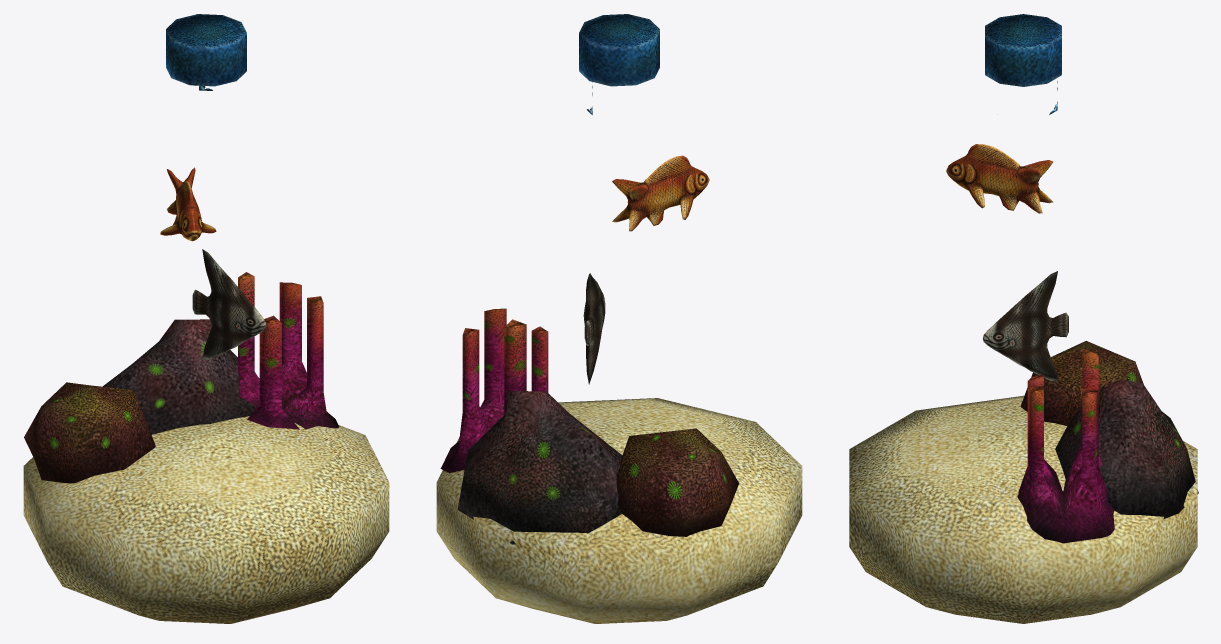
Rendered from BACK_FISHTANK.fbx.
3 views of the same model, side by side, from view 1: azimuth 30°, elevation 25°; view 2: azimuth 150°, elevation 25°; view 3: azimuth 270°, elevation 25° (orthographic).
Parts seen in each view (by area): view 1: Fish_Tank_1; view 2: Fish_Tank_1; view 3: Fish_Tank_1.
Part boxes in pixels (left/top/right/bottom): Fish_Tank_1: left=23, top=14, right=389, bottom=623; Fish_Tank_1: left=436, top=14, right=802, bottom=623; Fish_Tank_1: left=849, top=14, right=1198, bottom=623.
Bounding box in the file's own units: 0.0227 × 0.0358 × 0.0216.
